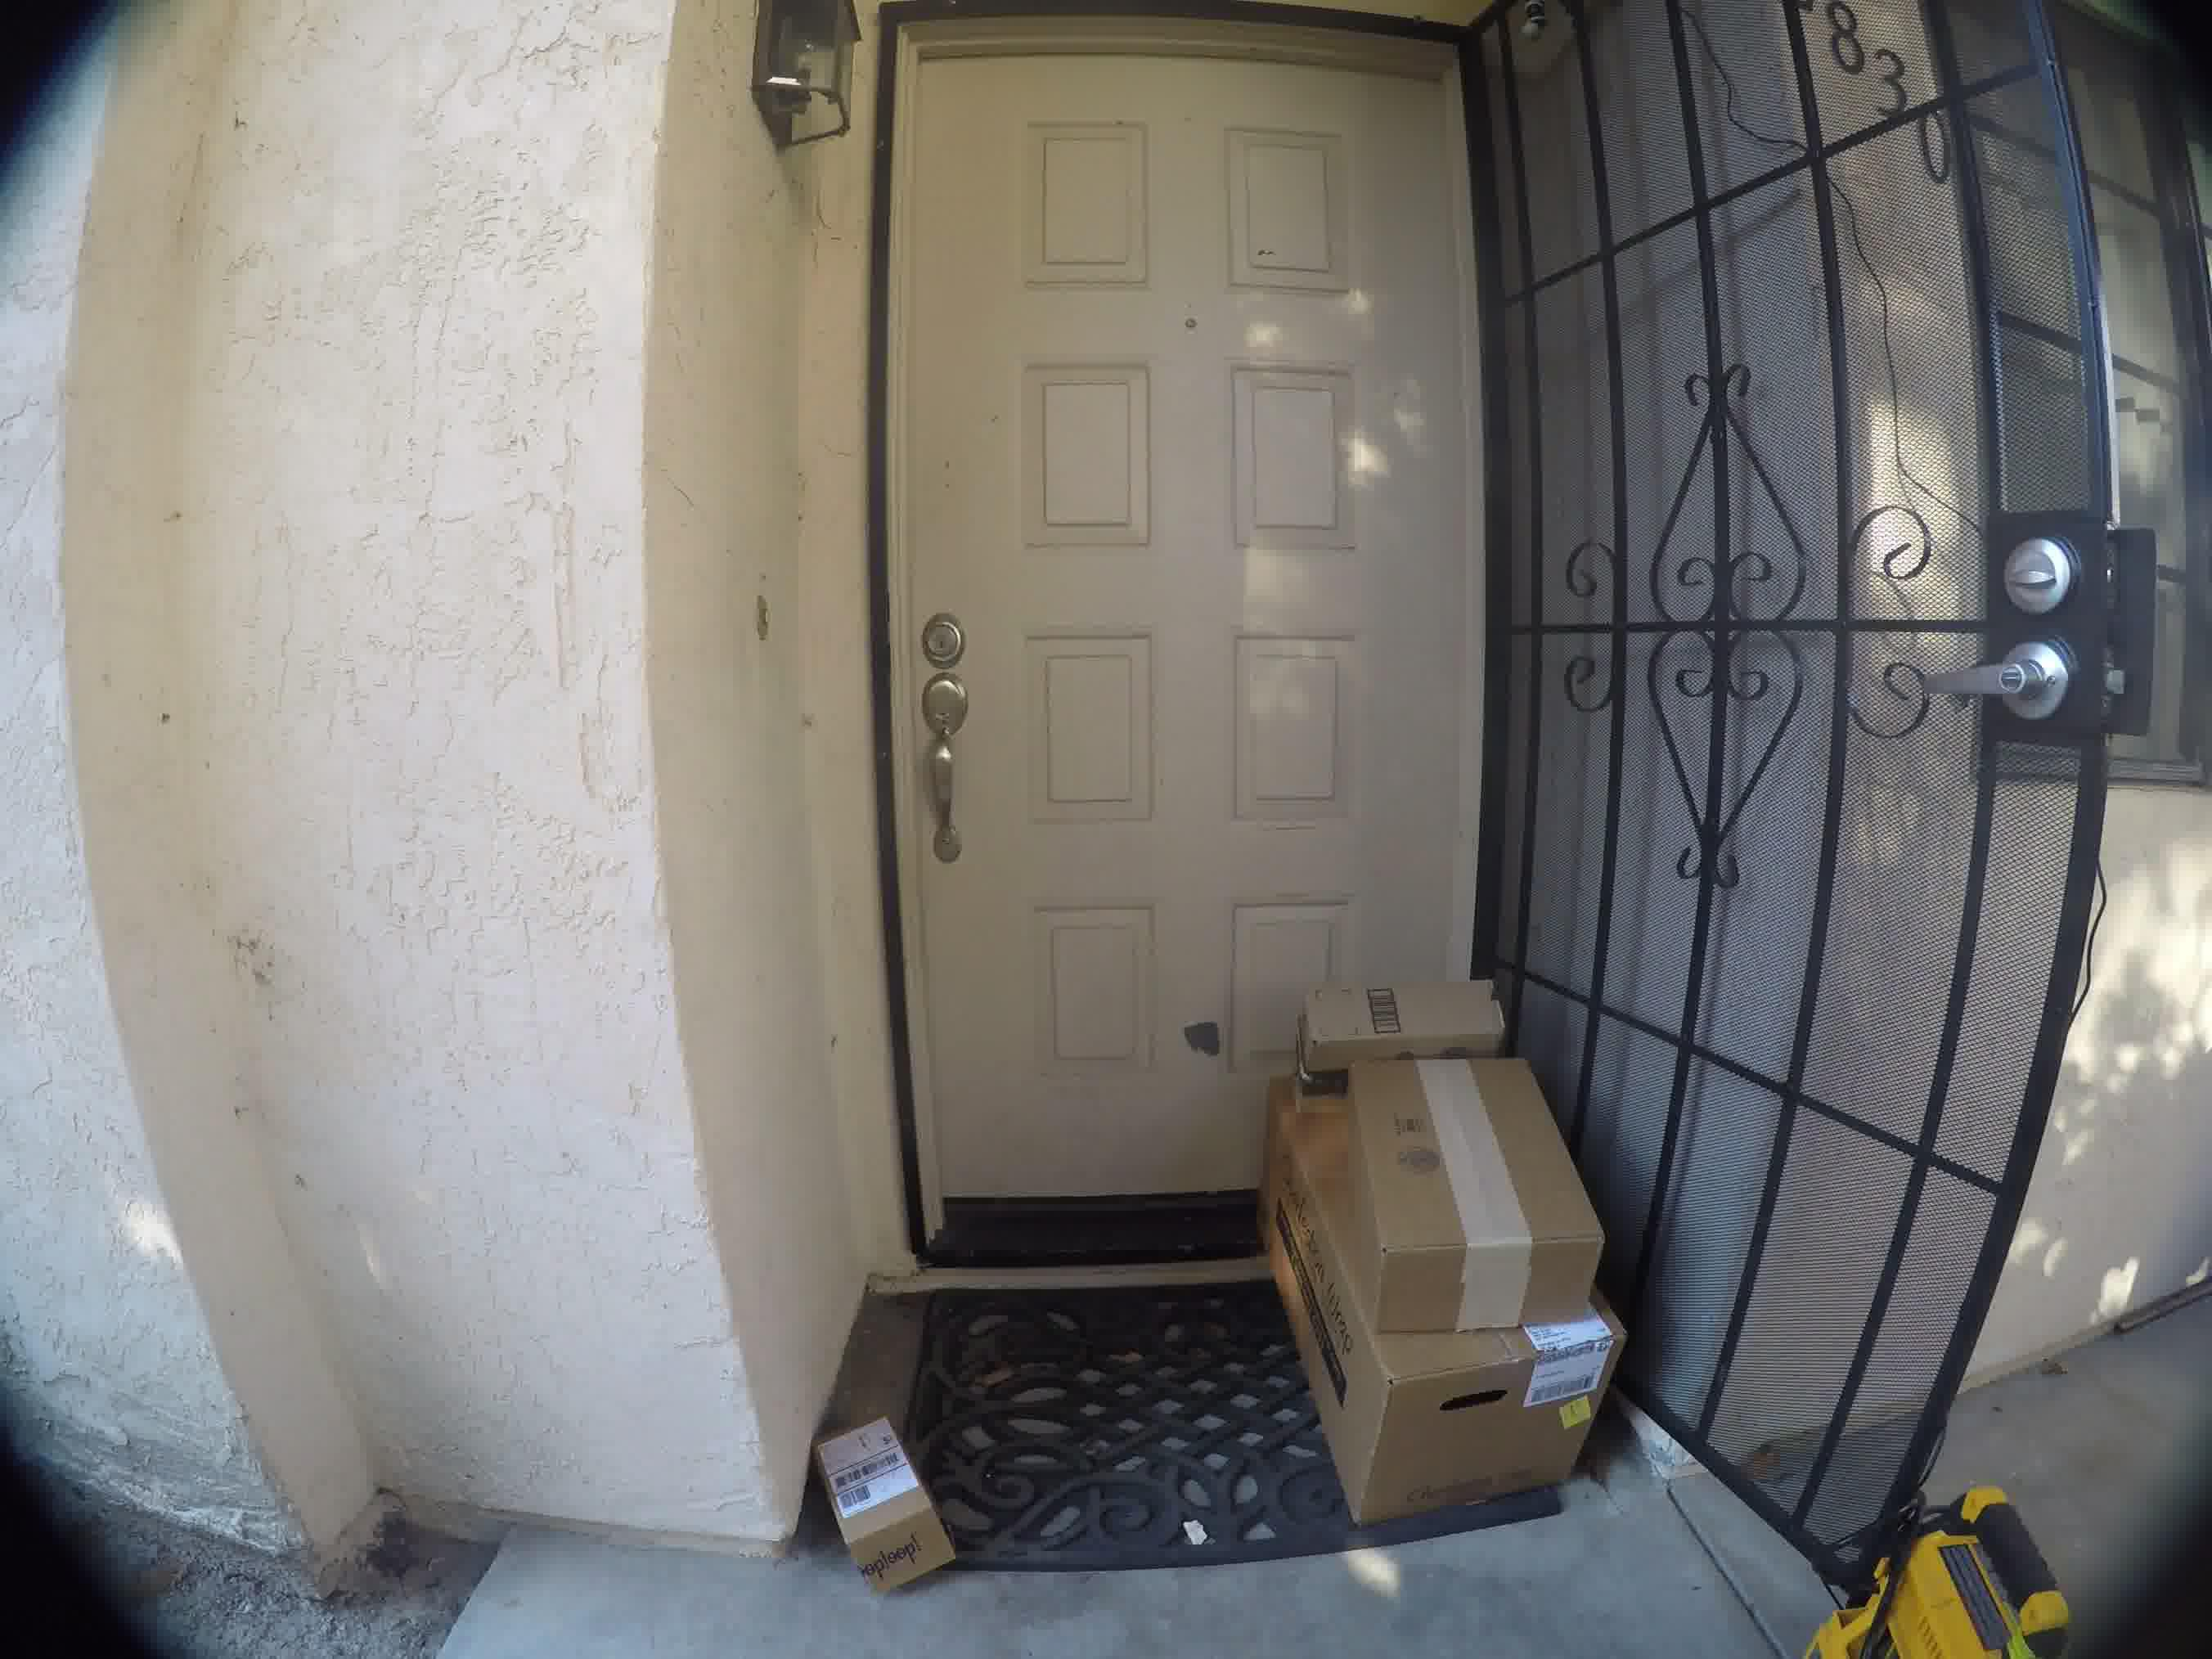box: (1298, 1058, 1616, 1276), (1308, 1314, 1616, 1532), (808, 1405, 972, 1622), (1264, 962, 1554, 1053)
